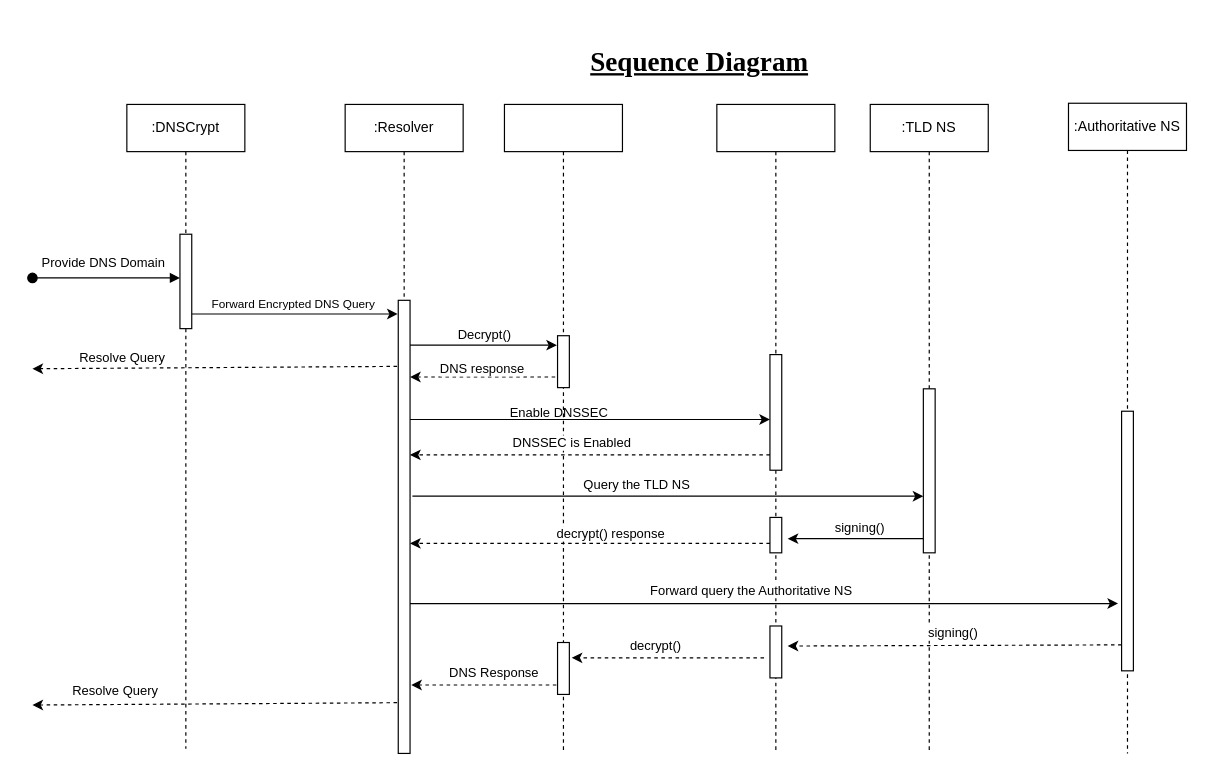
Some shapes in this 1207 by 774 pixel diagram are drawn without their labels. The box of each missing label's shape, as (x1, y1, x2, y2) in pixels:
:Cache: (503, 103, 622, 753)
:DNSSEC: (716, 103, 835, 753)
